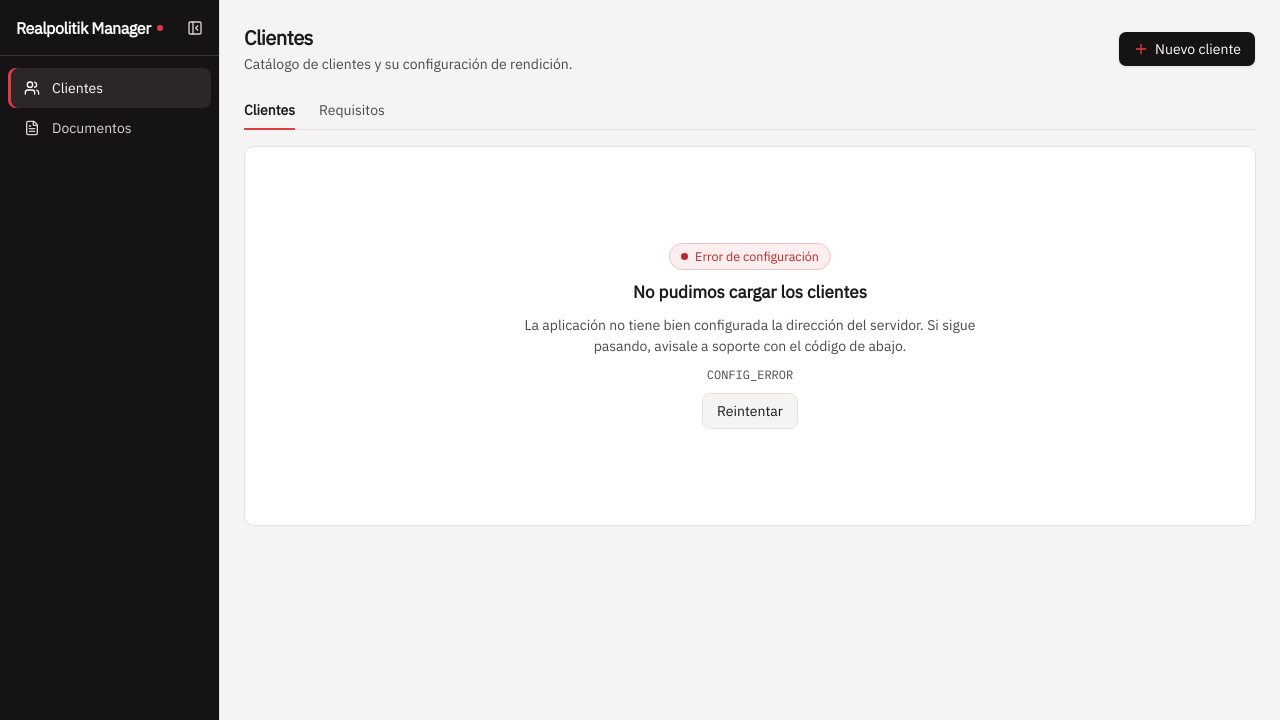
Test: AppLayout › el botón del Sidebar tiene un tooltip que dice qué hace
The width and height of the screenshot is (1280, 720).
Hover over the button named "Contraer barra lateral": (195, 28) left=179, top=12, right=211, bottom=44
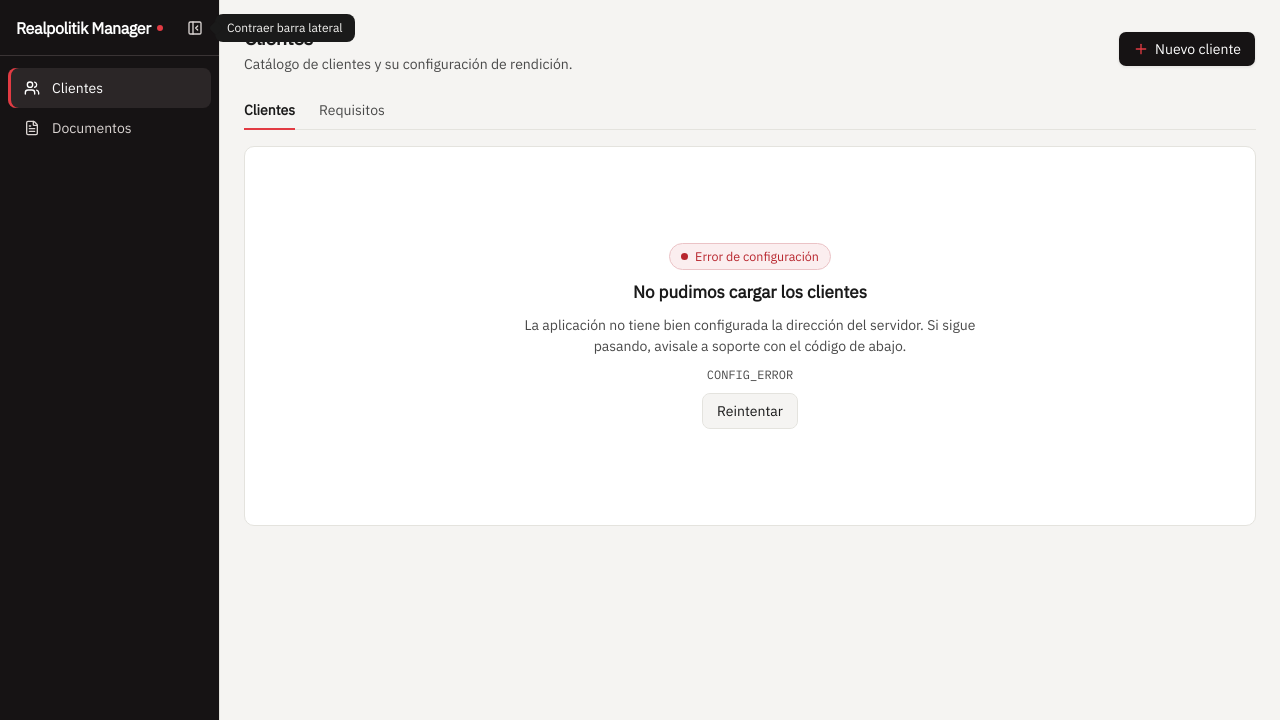
Expected: the text "Contraer barra lateral" is shown, left=215, top=14, right=355, bottom=42
